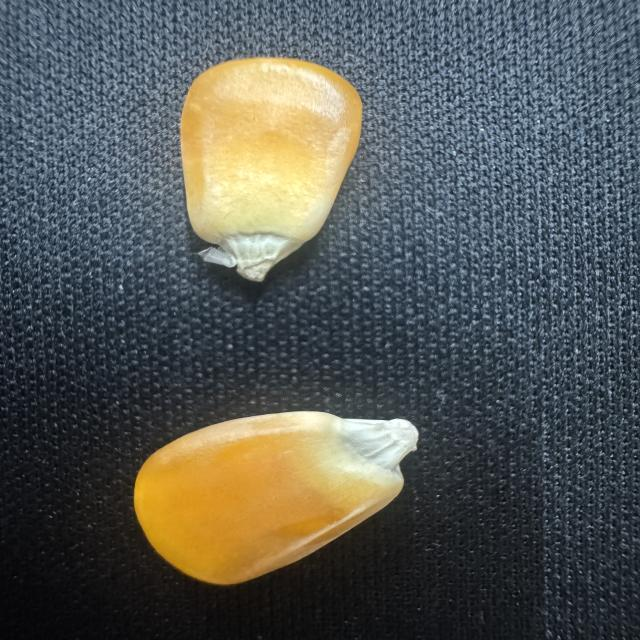Good-Seed: (126, 406, 424, 587), (175, 52, 366, 286)
